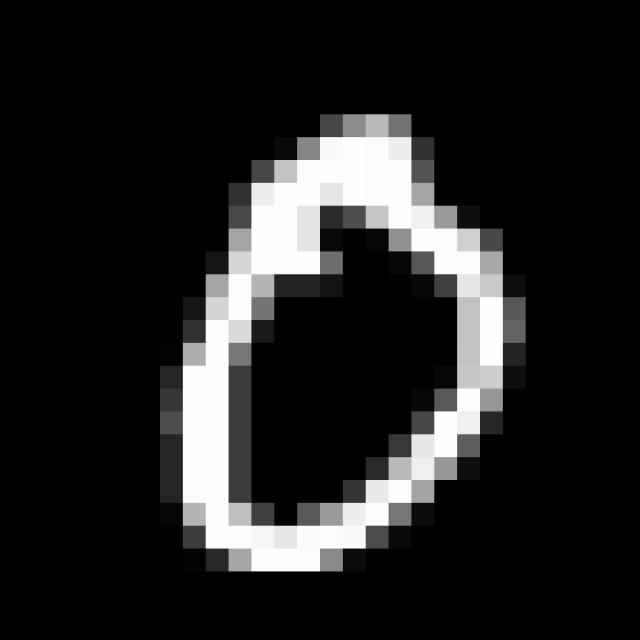zero -0-: (155, 98, 529, 590)
